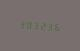six: (53, 20, 59, 32)
three: (17, 18, 23, 29), (32, 19, 38, 30), (46, 20, 52, 31)
two: (39, 19, 45, 31)
zero: (24, 18, 30, 30)
